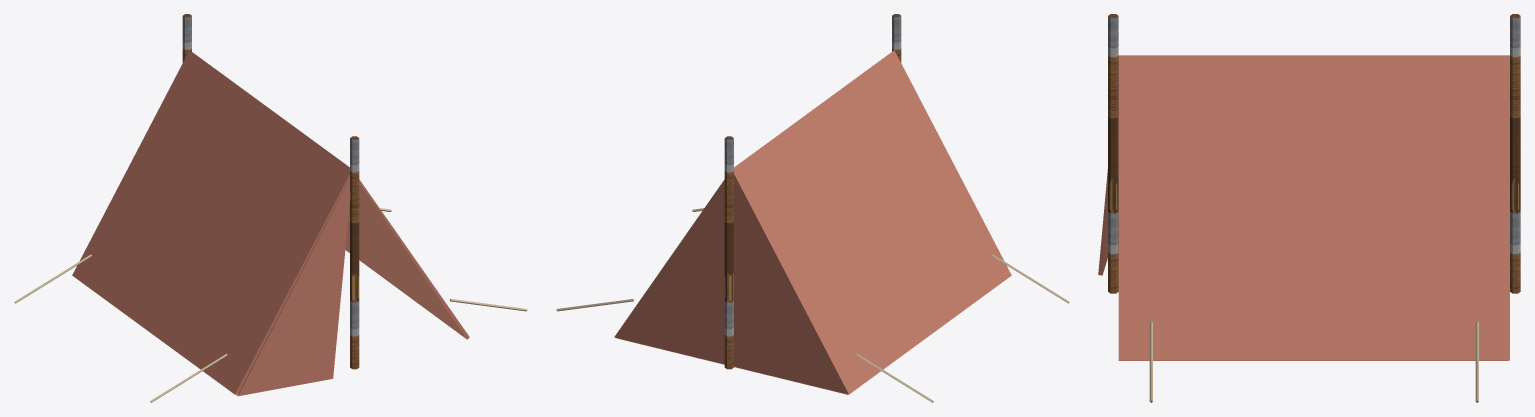
File: Zelt_rot.gltf
3 views of the same model, side by side, from view 1: azimuth 30°, elevation 25°; view 2: azimuth 150°, elevation 25°; view 3: azimuth 270°, elevation 25° (orthographic). The views are drawn at different scales.
Parts seen in each view (by area): view 1: Zelt_rot; view 2: Zelt_rot; view 3: Zelt_rot.
Part boxes in pixels (x1,y1,x2,y2): Zelt_rot: (14, 14, 527, 402); Zelt_rot: (556, 14, 1069, 402); Zelt_rot: (1098, 14, 1520, 402).
Size of the model in its own units: 4.81 by 2.82 by 3.89.
Materials: 3 (1 with a texture image).
